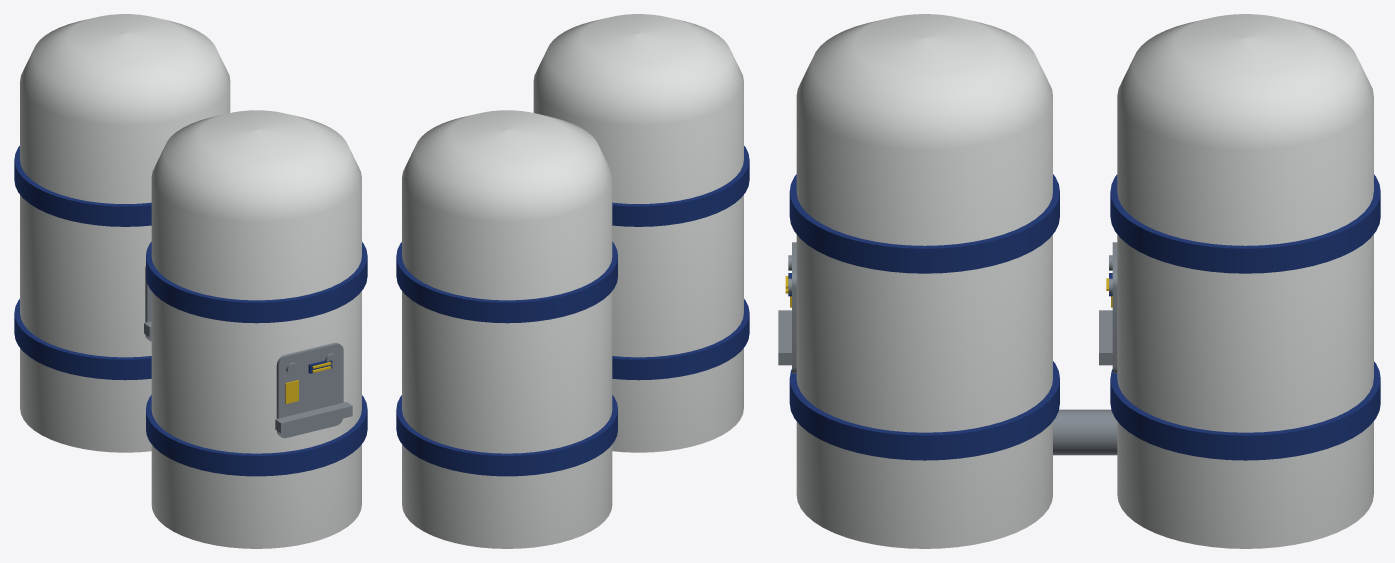
The model's file is l20_water.obj.
3 renders of one model, left to right at view 1: azimuth 30°, elevation 25°; view 2: azimuth 150°, elevation 25°; view 3: azimuth 270°, elevation 25°, orthographic. The views are drawn at different scales.
Visible parts, largest first — view 1: l20_water; view 2: l20_water; view 3: l20_water.
Boxes of the visible parts, x1,y1,x2,y2 form: l20_water: (14,14,367,548); l20_water: (396,14,749,548); l20_water: (778,14,1380,548).
Bounding box in the file's own units: 0.59 × 1.1 × 1.31.
